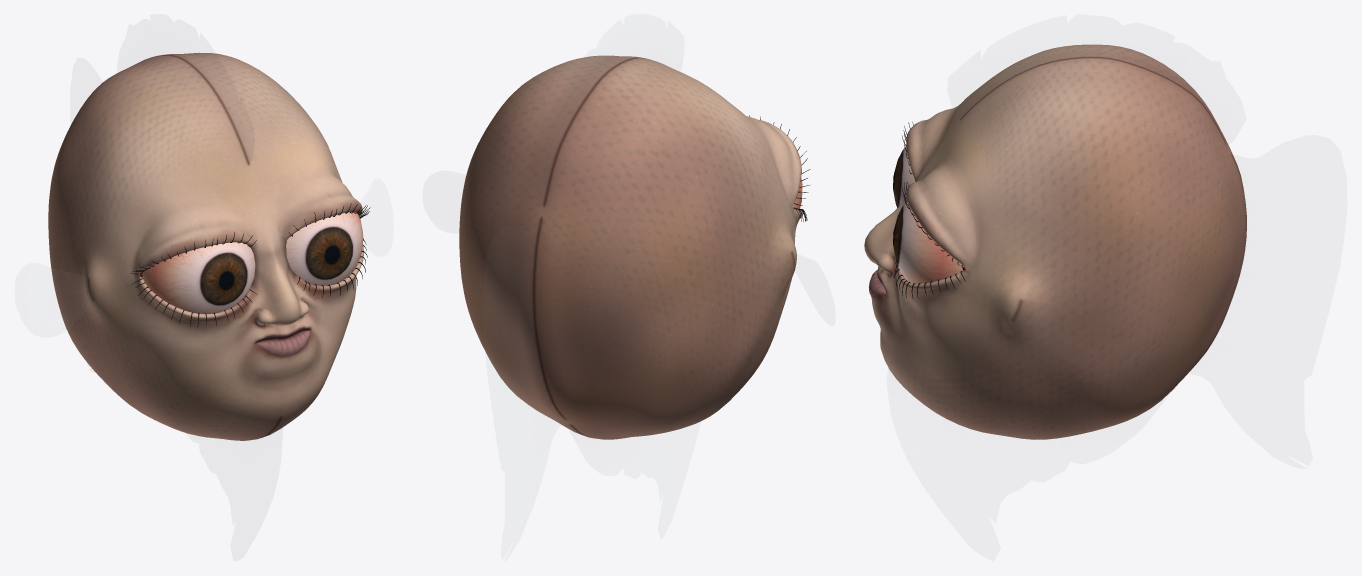
Rendered from fishynew.fbx.
3 views of the same model, side by side, from view 1: azimuth 30°, elevation 25°; view 2: azimuth 150°, elevation 25°; view 3: azimuth 270°, elevation 25° (orthographic). The views are drawn at different scales.
Parts seen in each view (by area): view 1: body, eyes; view 2: body; view 3: body, eyes.
Boxes of the visible parts, x1,y1,x2,y2 form: body: [48, 52, 370, 440]; eyes: [142, 212, 363, 313]; body: [459, 55, 810, 439]; body: [864, 44, 1246, 439]; eyes: [893, 146, 963, 283].
Size of the model in its own units: 538 by 689 by 551.
